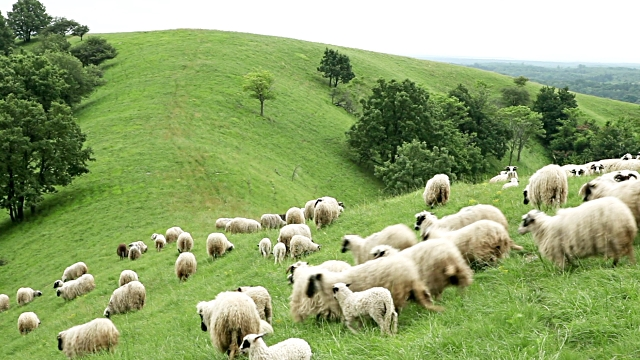sheep: (511, 200, 636, 288), (327, 282, 438, 352), (407, 205, 530, 250), (378, 235, 464, 298), (198, 292, 269, 360), (95, 287, 172, 333), (568, 167, 640, 215), (50, 310, 116, 360), (485, 148, 536, 207), (280, 258, 337, 310), (523, 166, 573, 220), (428, 162, 473, 212), (302, 188, 351, 228), (243, 331, 311, 358), (172, 251, 220, 288), (279, 216, 325, 254), (7, 278, 53, 313), (97, 238, 149, 268), (149, 220, 184, 264), (64, 260, 109, 292), (57, 280, 103, 305), (261, 224, 292, 260), (4, 305, 45, 332), (171, 224, 202, 259), (202, 228, 230, 266), (280, 195, 309, 229), (257, 205, 287, 236), (117, 267, 151, 293), (230, 218, 266, 240)
